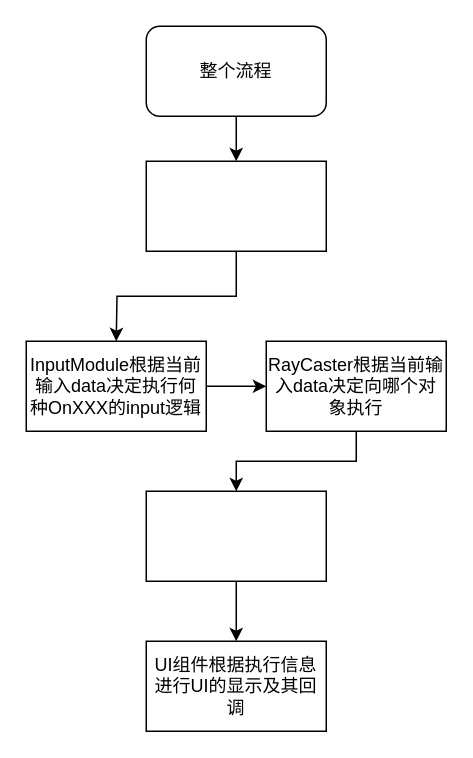
The diagram is 473 pixels wide and 758 high, and some of its shapes have lost their labels. Each missing label, with the centre of its shape:
"EventSystem向该对象传递执行信息" goes at [235,535].
"Input记录当前输入data" goes at [235,205].
